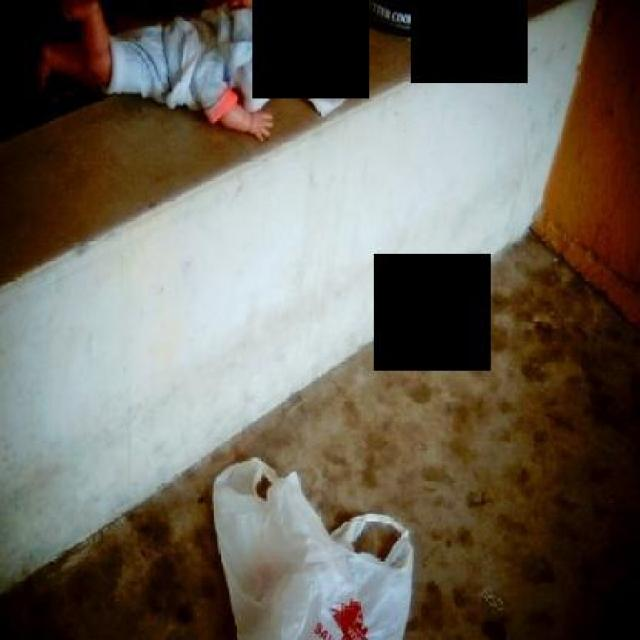plastic bag: (211, 454, 415, 638)
